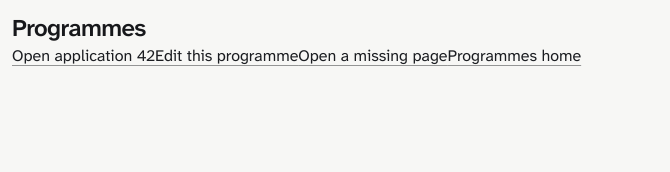
Router: moving to another page › does not keep retrying a page that keeps failing
The width and height of the screenshot is (670, 172).
Click the link "Open application 42".
click(84, 56)  # box [12,45,155,66]
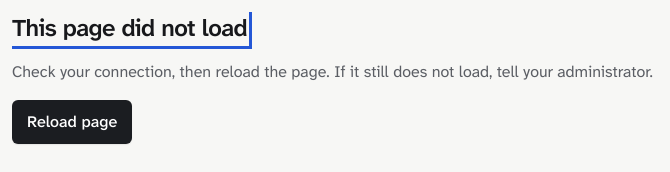
Expected: the heading "This page did not load" is shown, [12,12,247,44]
